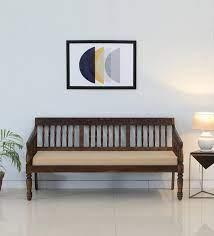light: (191, 112, 214, 152)
sofa: (24, 114, 187, 204)
table: (189, 150, 214, 199)
